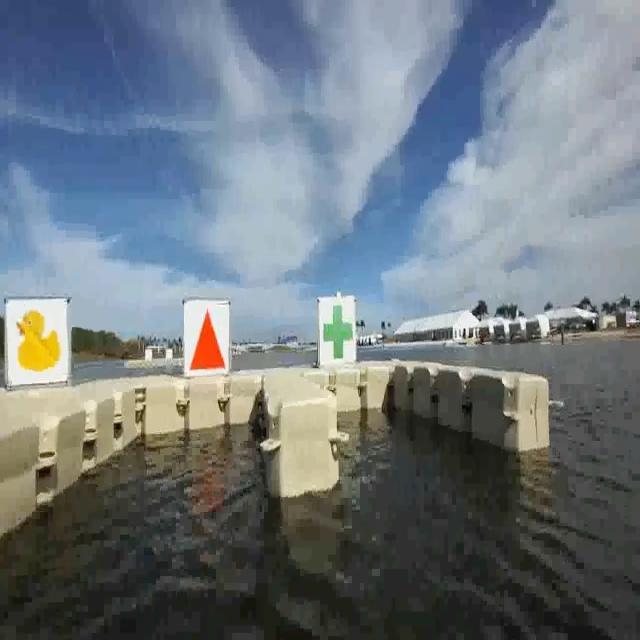blue-cross: (322, 293, 354, 357)
red-dot: (183, 296, 226, 370)
yellow-duck: (9, 304, 67, 377)
